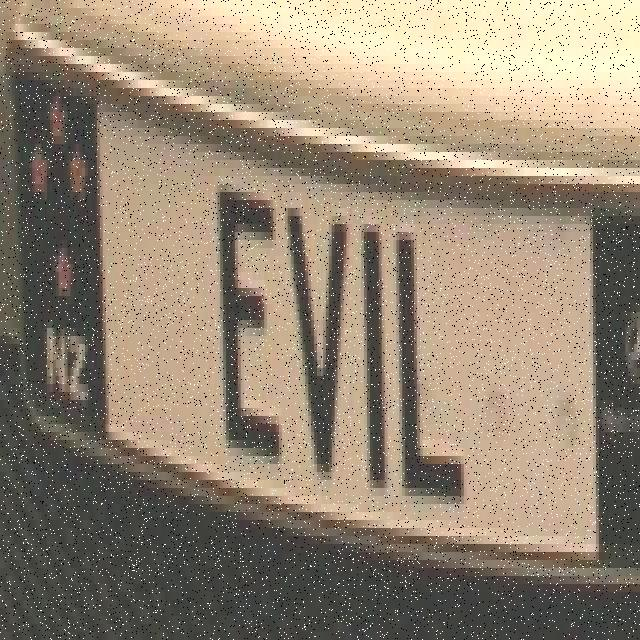licenseplate: (3, 39, 640, 606)
